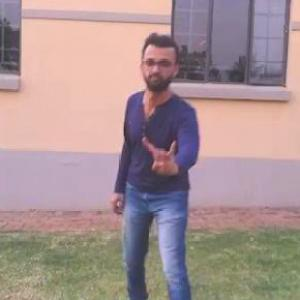takeoff-hand: (138, 130, 184, 182)
